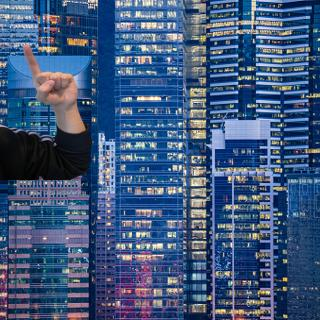IRRITATED: (20, 42, 80, 110)
